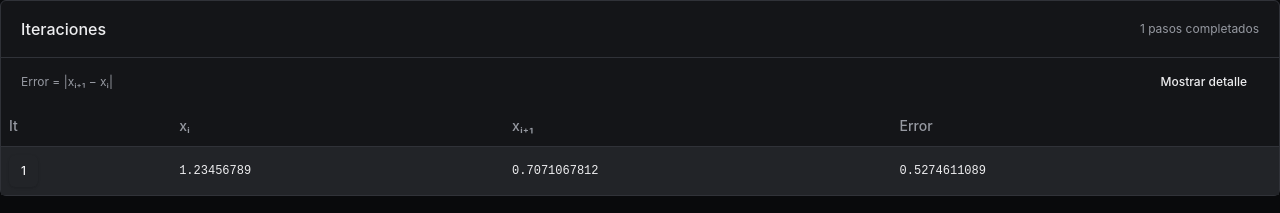
Test case: muestra las columnas del cuaderno y conserva precisión y selección al desplegar
Expected: the column headings read "It", "xᵢ", "xᵢ₊₁", "Error", in this order, [1,106,171,146]; [171,106,504,146]; [504,106,892,146]; [892,106,1279,146]
Click the button "Mostrar detalle" at (1204, 82), box [1148,66,1259,98]
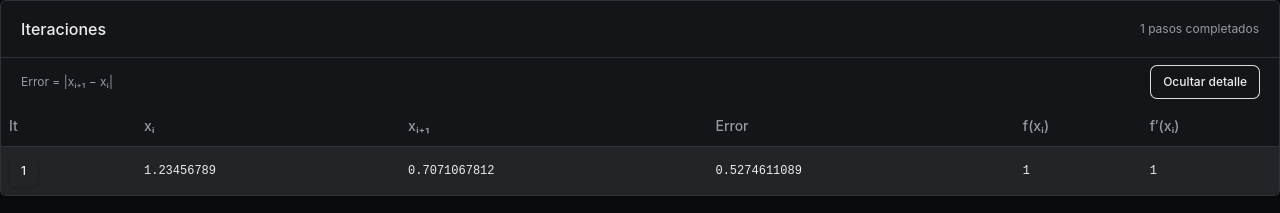
Now the column headings read "It", "xᵢ", "xᵢ₊₁", "Error", "f(xᵢ)", "f′(xᵢ)", in this order, box [1,106,136,146]; [136,106,400,146]; [400,106,708,146]; [708,106,1015,146]; [1015,106,1142,146]; [1142,106,1279,146]
